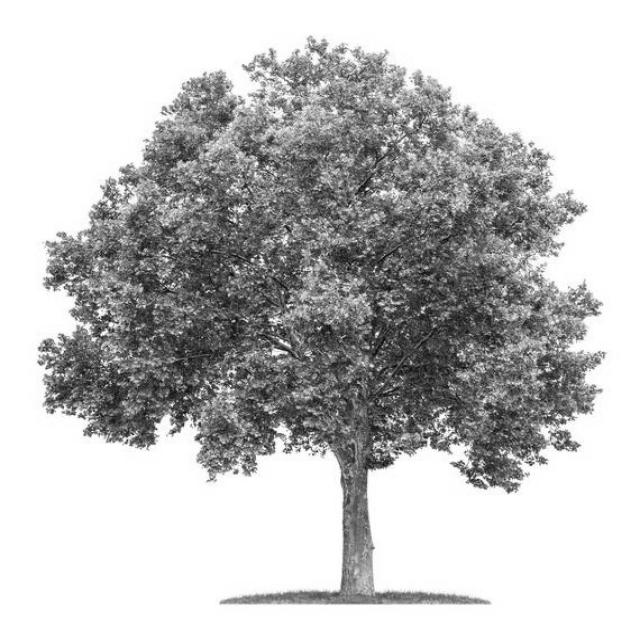Tree: (39, 39, 604, 594)
